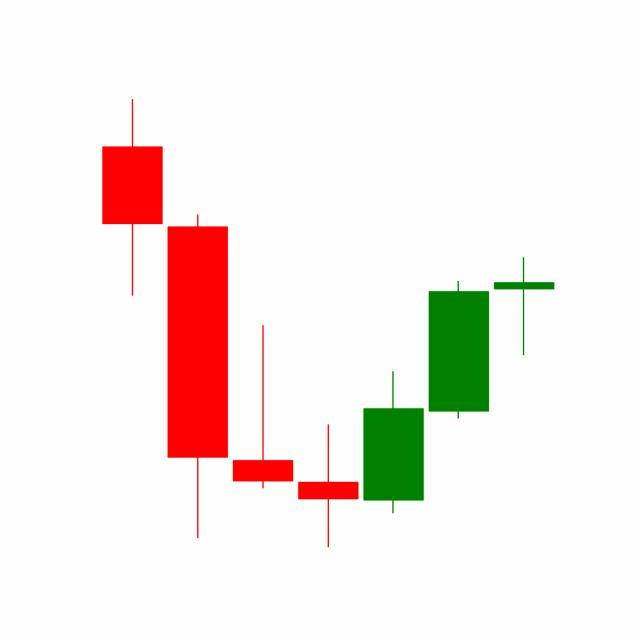Advance Block: (360, 255, 556, 518)
